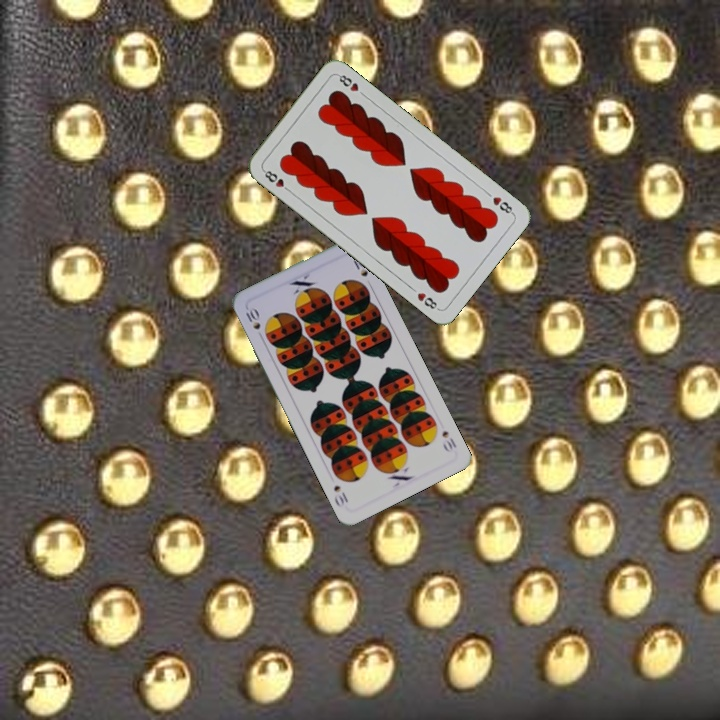H8: (259, 166, 294, 195), (489, 192, 517, 217)
S10: (242, 303, 266, 341), (438, 427, 459, 455)
